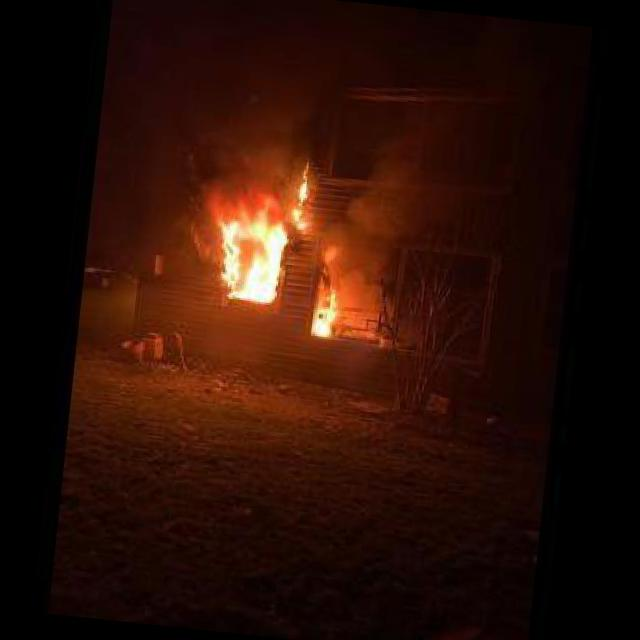Fire: (206, 192, 292, 306), (308, 281, 342, 336), (288, 156, 312, 230)
Smoke: (320, 117, 444, 294)
